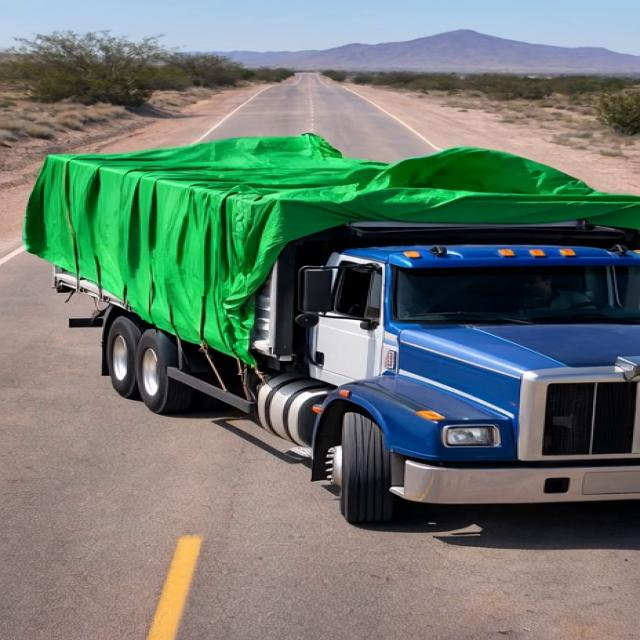trailer: (39, 127, 600, 224)
truck: (18, 92, 634, 531)
